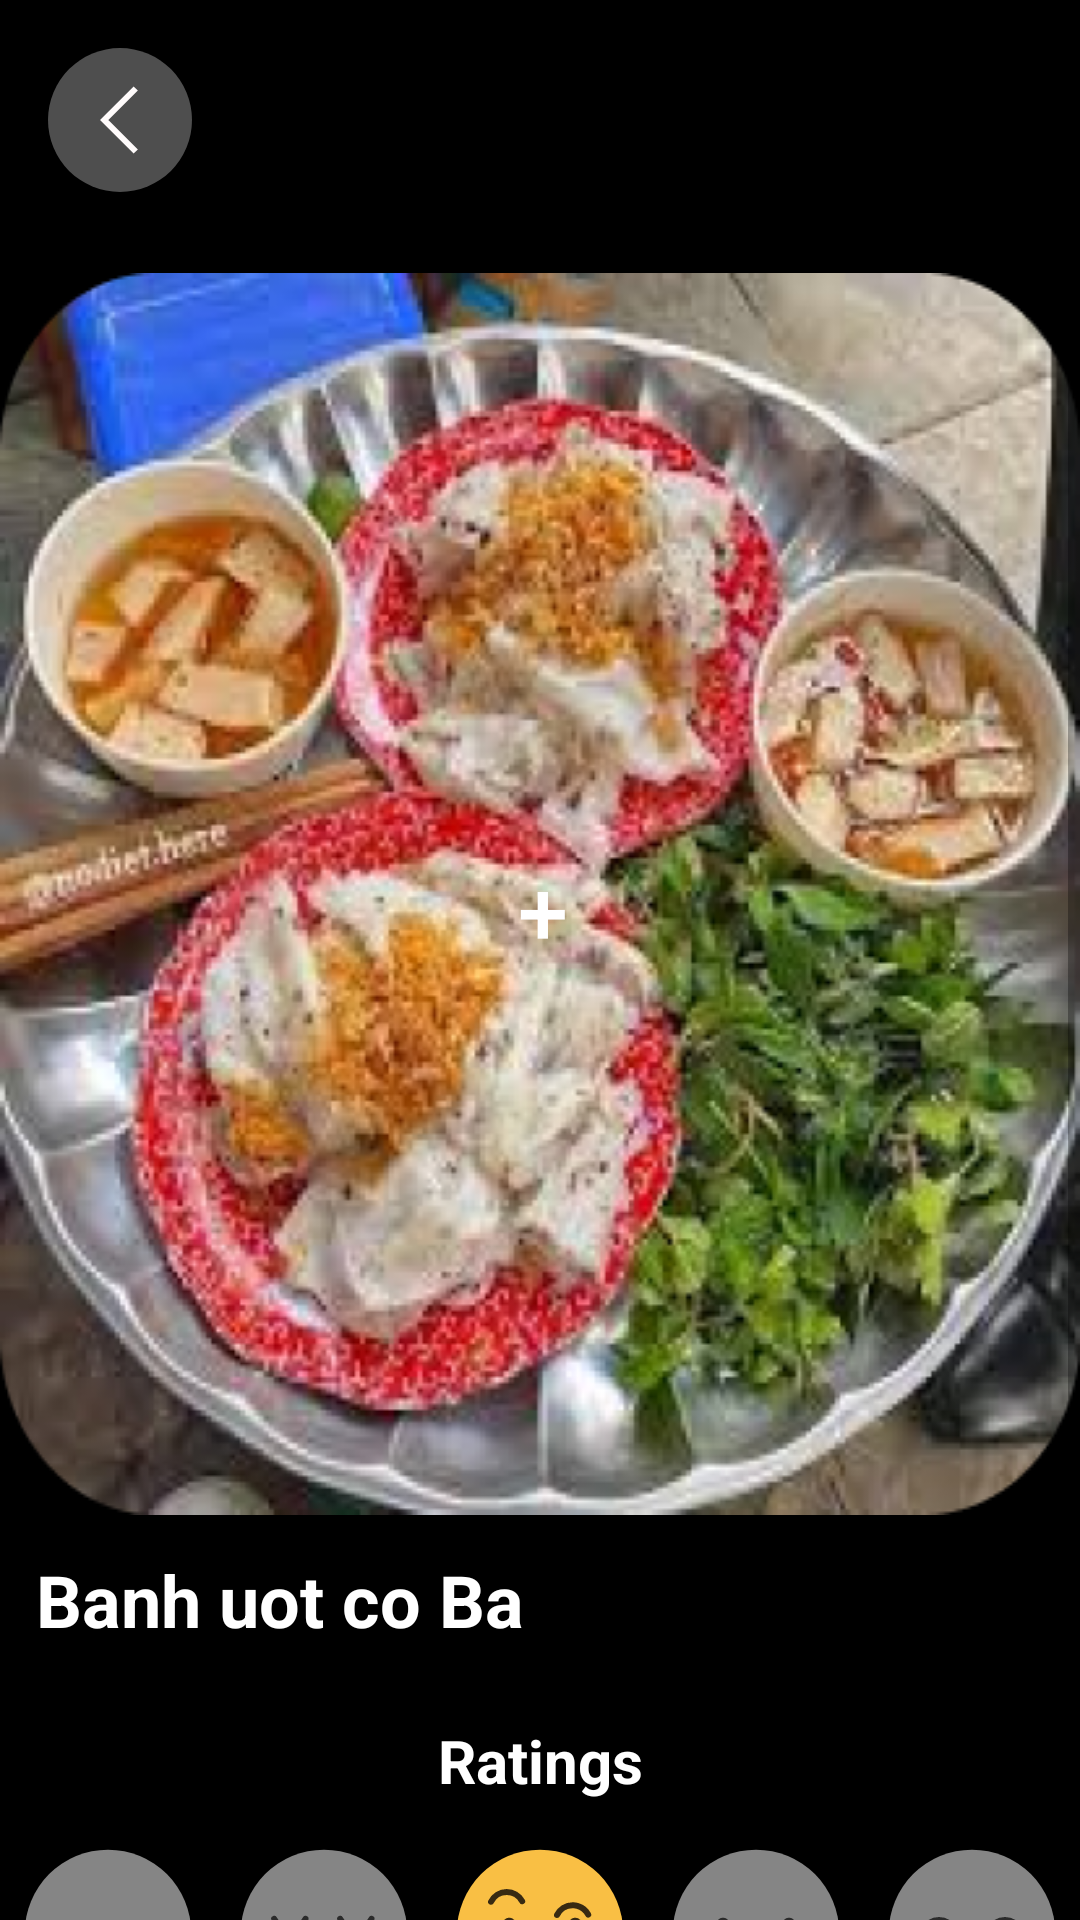

Point at icon controls on the screen. Image size 1080px x 1920px, points as [x,y].
go back button: [120,120]
